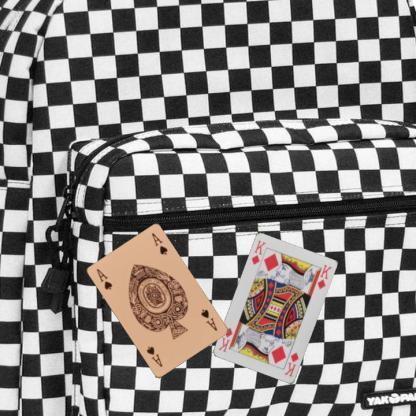As: (199, 307, 219, 332), (94, 266, 114, 291)
Kd: (281, 350, 300, 378), (249, 237, 267, 266)
